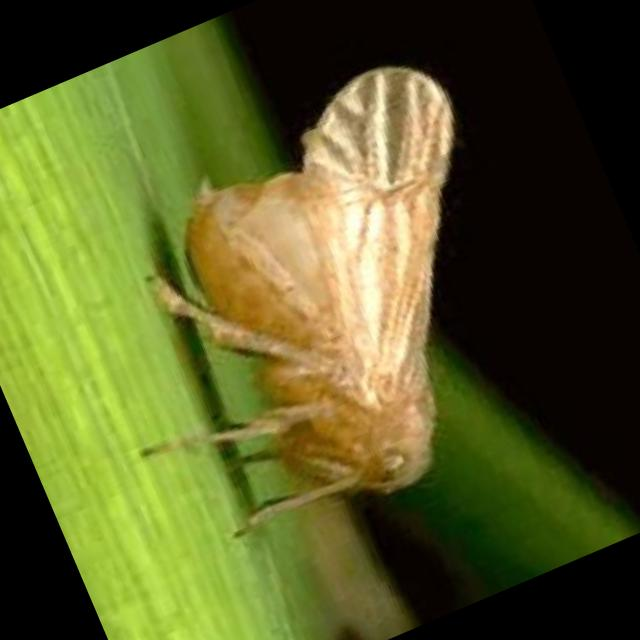brown-planthopper: (141, 38, 582, 536)
